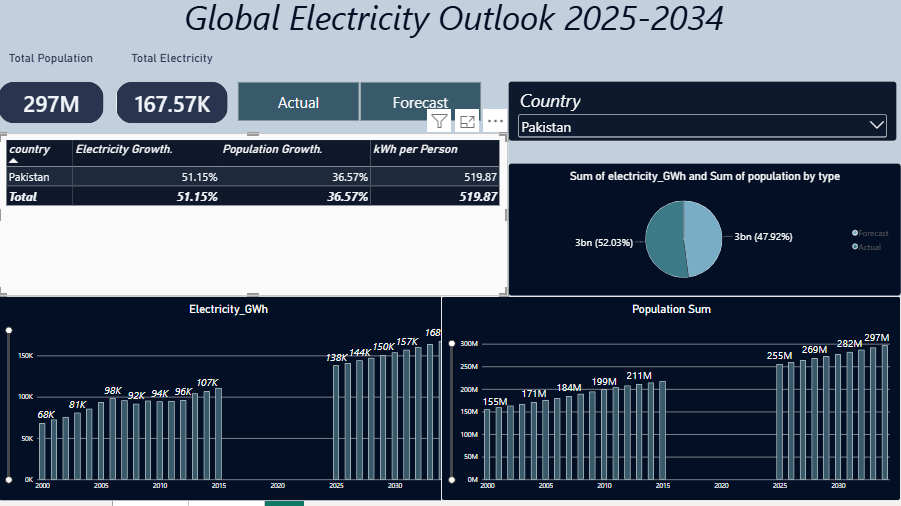

This screenshot's page, from the dashboard's own definition file:
{"tool":"powerbi","page":{"name":"Page 1","canvas":[1920,1080],"ordinal":0},"visuals":[{"type":"tableEx","fields":{"Values":["powerb!_final.country","powerb!_final.Electricity Growth.","powerb!_final.Population Growth.","powerb!_final.kWh per Person"]},"box":[0,297.5,1085,347.5],"z":0},{"type":"slicer","title":"TYY","fields":{"Values":["powerb!_final.country"]},"box":[1084.3,187.1,827,127.6],"z":1000},{"type":"lineStackedColumnComboChart","title":" Electricity_GWh","fields":{"Category":["powerb!_final.year"],"Y":["Sum(powerb!_final.electricity_GWh)"]},"box":[0,645,977.5,435],"z":2000},{"type":"lineStackedColumnComboChart","title":"Population Sum","fields":{"Category":["powerb!_final.year"],"Y":["Sum(powerb!_final.population)"]},"box":[942.5,645,977.5,435],"z":3000},{"type":"textbox","box":[20,0,1900,97.5],"z":4000},{"type":"cardVisual","title":"Total Population","fields":{"Data":["powerb!_final.Population Latest"]},"box":[0,123.3,225.4,174.3],"z":5000},{"type":"cardVisual","title":"Total Electricity","fields":{"Data":["powerb!_final.Electricity Latest"]},"box":[250.9,123.3,238.1,174.3],"z":6000},{"type":"slicer","fields":{"Values":["powerb!_final.type"]},"box":[489,187.1,557,87.2],"z":7000},{"type":"pieChart","fields":{"Category":["powerb!_final.type"],"Y":["Sum(powerb!_final.electricity_GWh)","Sum(powerb!_final.population)"]},"box":[1084.3,361.4,835.5,282.8],"z":8000}]}

Visuals, with their boxes in screenshot pixels (x1, y1, x2, y2), scaled from the page's 1920x1080 canvas onto the 901x506 screenshot:
tableEx - powerb!_final.country x powerb!_final.Electricity Growth.: (left=0, top=139, right=509, bottom=302)
"TYY" slicer: (left=509, top=88, right=897, bottom=147)
" Electricity_GWh" lineStackedColumnComboChart: (left=0, top=302, right=459, bottom=505)
"Population Sum" lineStackedColumnComboChart: (left=442, top=302, right=900, bottom=505)
textbox: (left=9, top=0, right=900, bottom=46)
"Total Population" cardVisual: (left=0, top=58, right=106, bottom=139)
"Total Electricity" cardVisual: (left=118, top=58, right=229, bottom=139)
slicer - powerb!_final.type: (left=229, top=88, right=491, bottom=129)
pieChart - powerb!_final.type x Sum(powerb!_final.electricity_GWh): (left=509, top=169, right=900, bottom=302)
